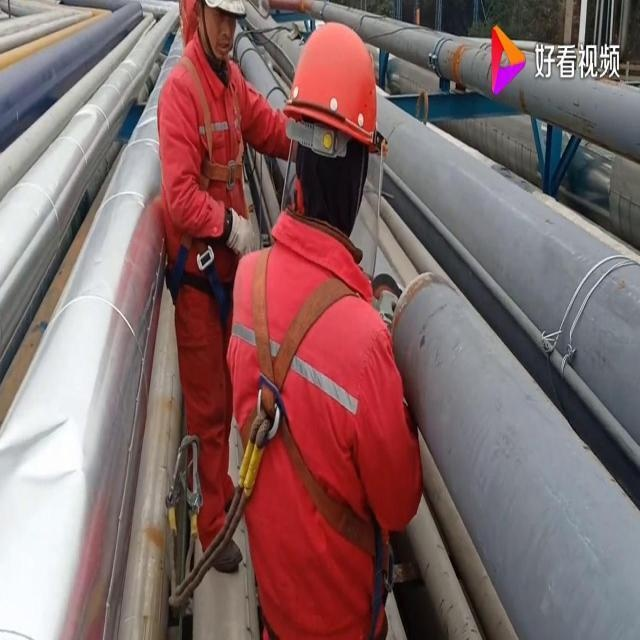Arnes_seguridad: (239, 232, 396, 580), (164, 51, 248, 314)
